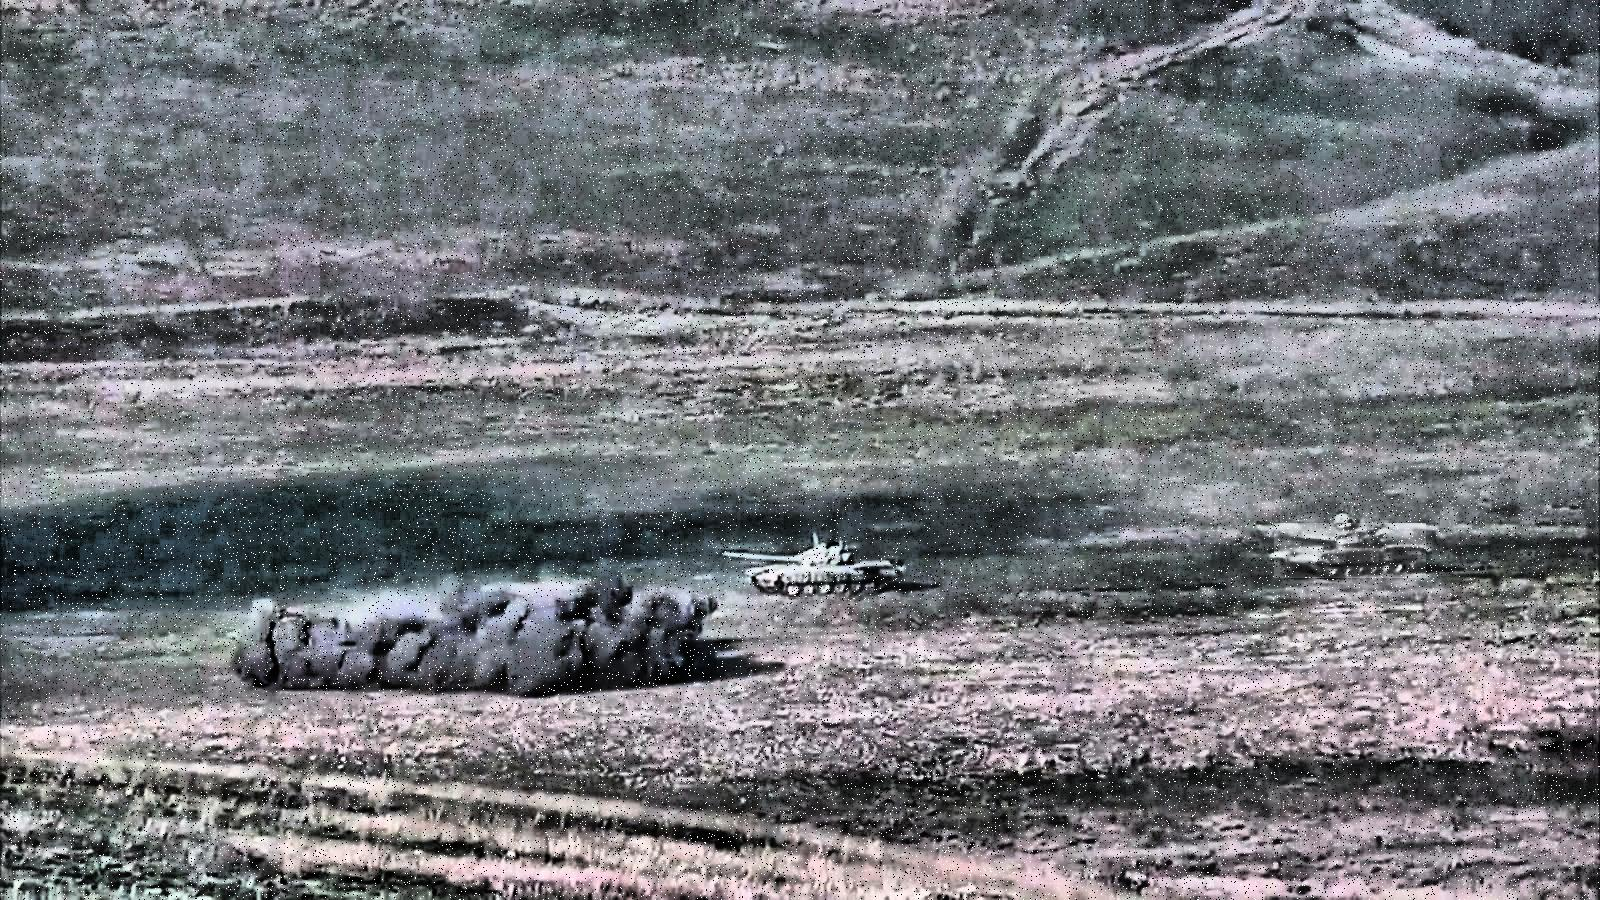military-vehicle: (724, 543, 900, 599), (1274, 524, 1426, 579)
